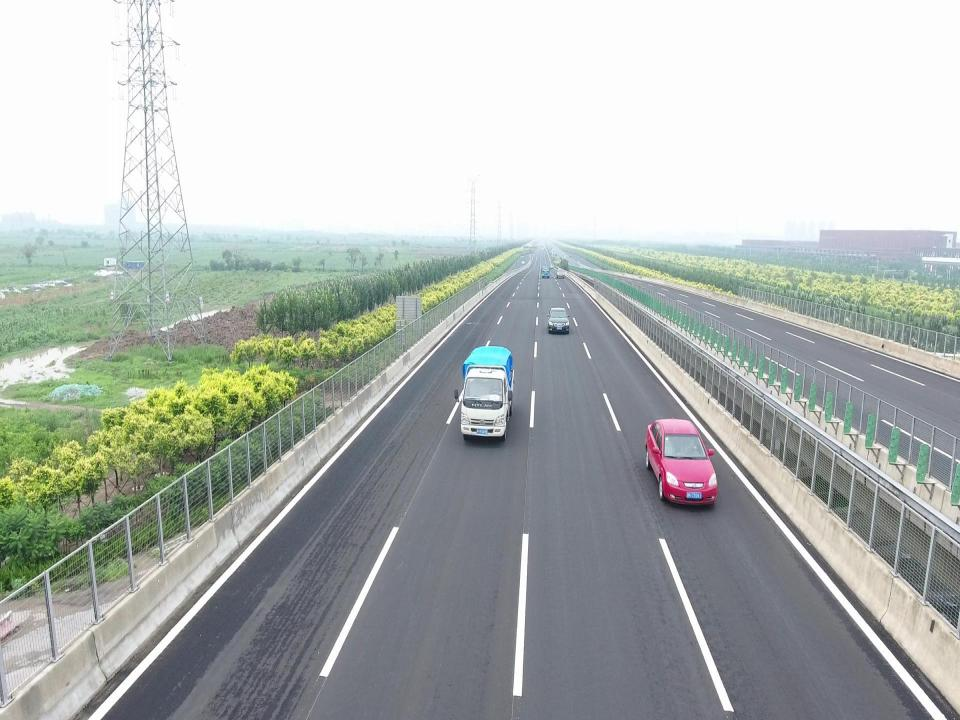car: (647, 415, 718, 509), (545, 307, 571, 336), (554, 267, 566, 279)
truck: (457, 344, 515, 443), (540, 264, 552, 279)
